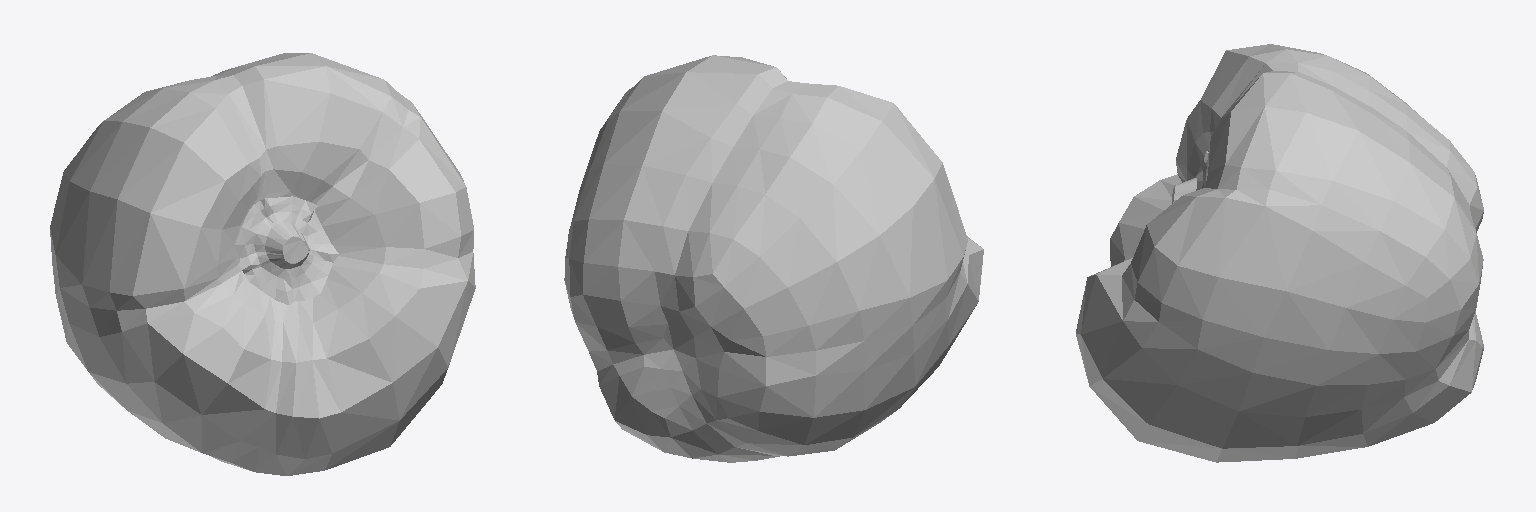
File: yellow_bell_pepper_no_stem_low.obj
3 renders of one model, left to right at view 1: azimuth 30°, elevation 25°; view 2: azimuth 150°, elevation 25°; view 3: azimuth 270°, elevation 25°, orthographic.
Visible parts, largest first — view 1: grp1; view 2: grp1; view 3: grp1.
Part boxes in pixels (x1,y1,x2,y2): grp1: (50,53,475,475); grp1: (564,55,983,462); grp1: (1076,44,1483,462).
Size of the model in its own units: 0.0806 by 0.0805 by 0.0808.